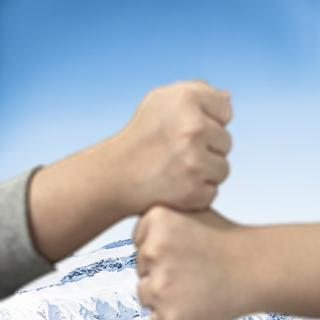CAREFUL: (48, 77, 290, 316)
